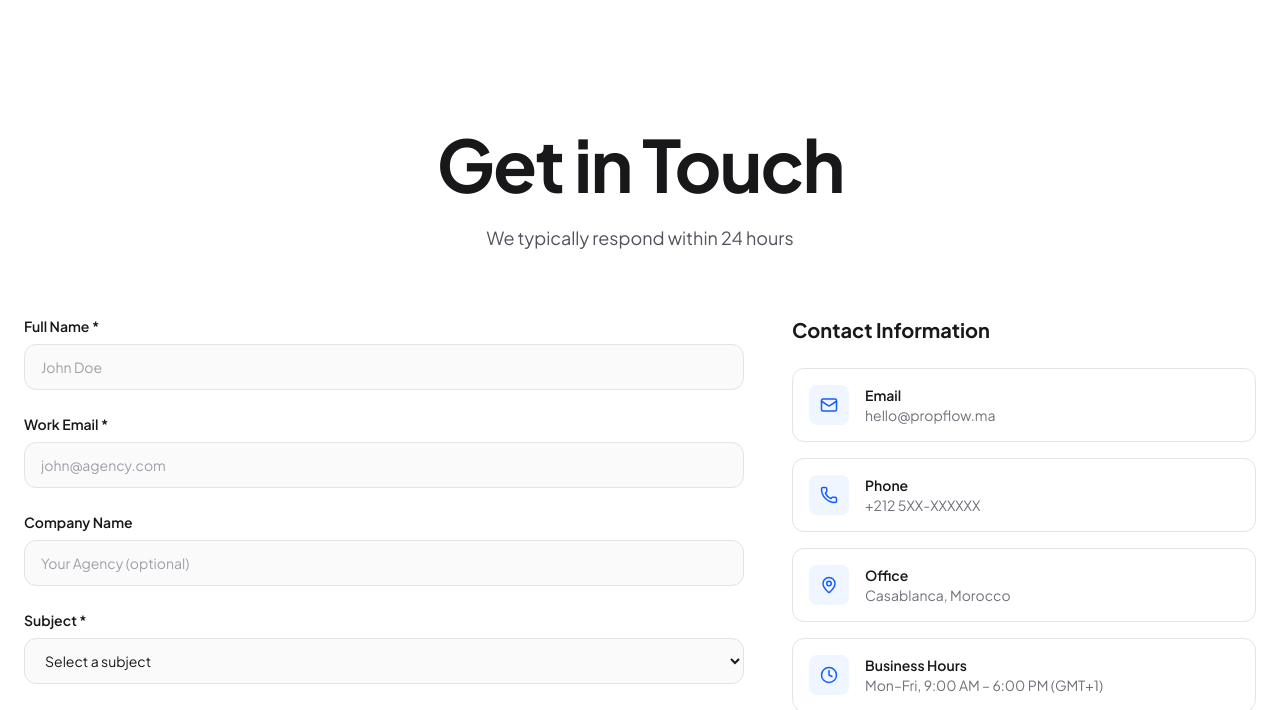
Test: ContactPage › shows success state after valid submission
Type "Jane Doe" into the field labelled "Full Name *" at [384, 367], box left=24, top=344, right=744, bottom=390
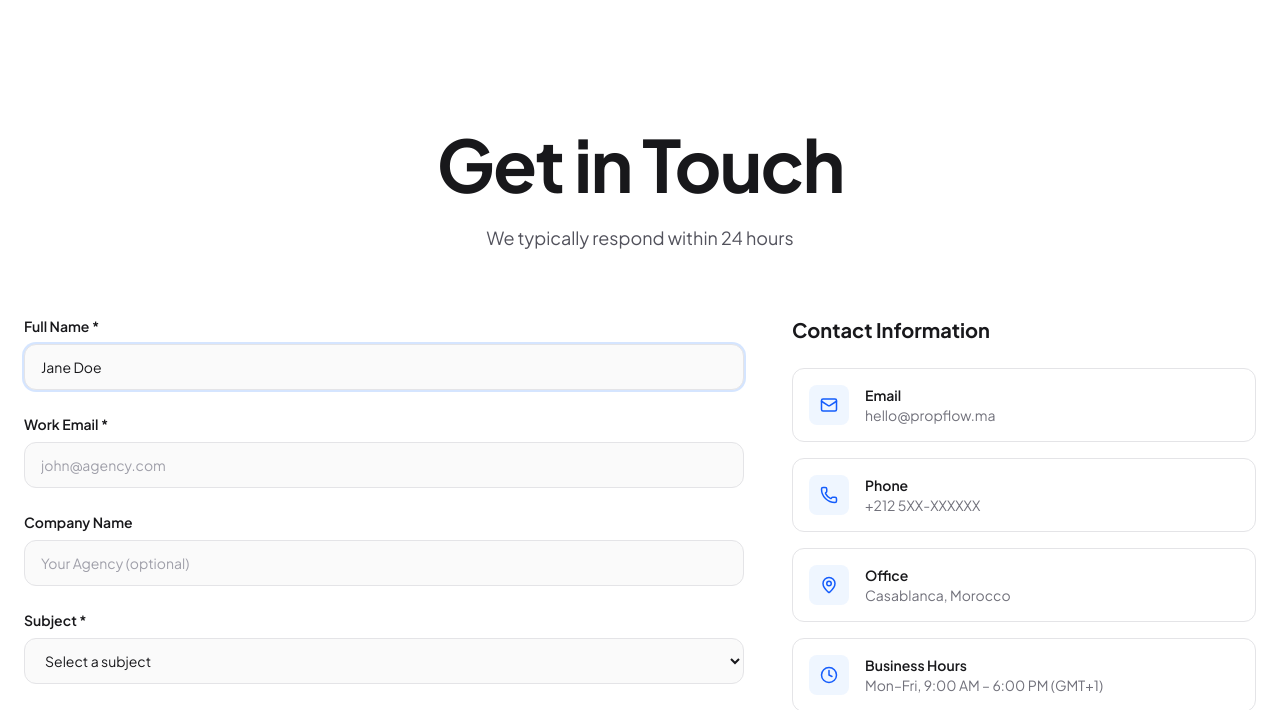
Type "jane@test.com" into the field labelled "Work Email *" at [384, 465], box left=24, top=442, right=744, bottom=488
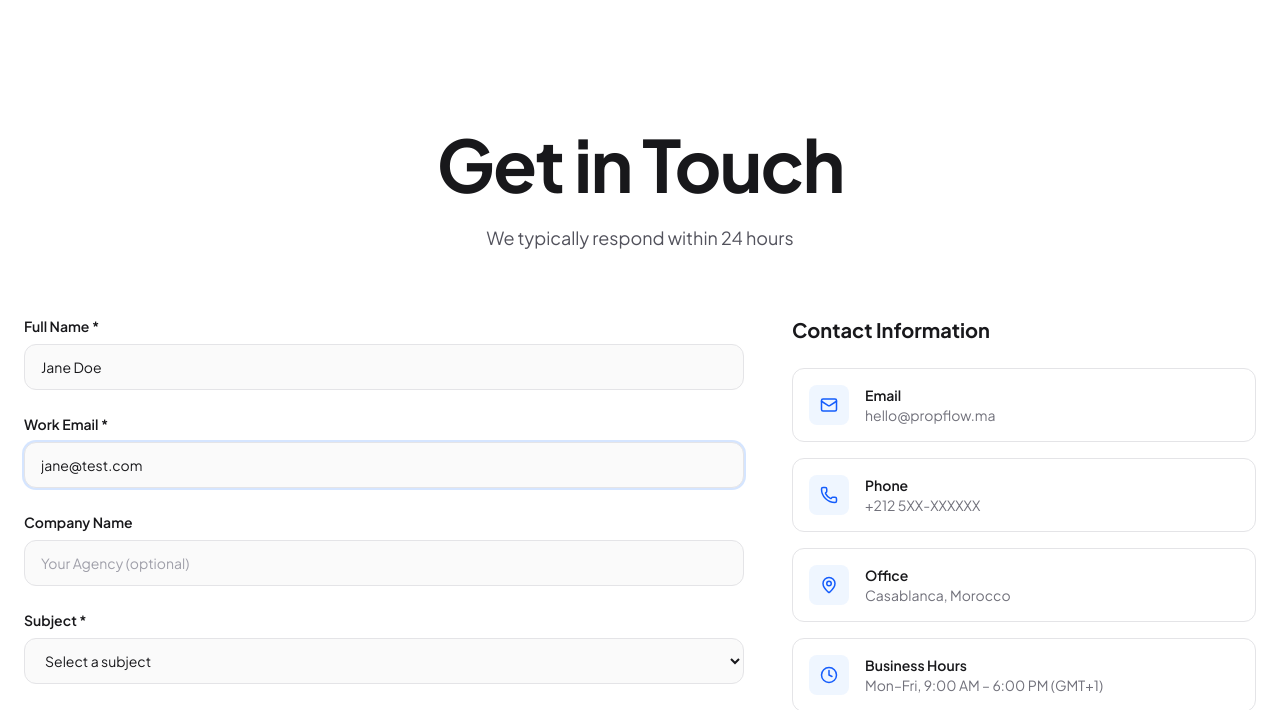
Select "General Inquiry" in the dropdown labelled "Subject *" at [384, 661], box left=24, top=638, right=744, bottom=684
(page scrolled)
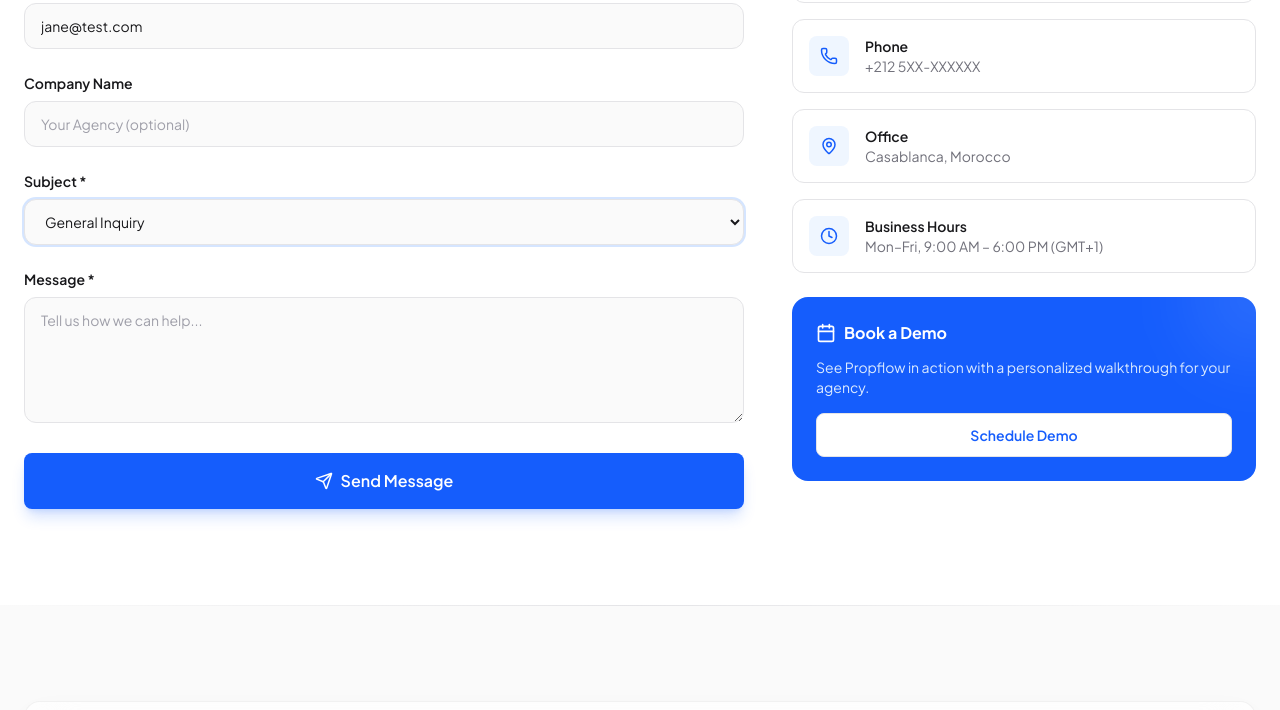
Type "This is a test message for contact form." into the text box labelled "Message *" at [384, 360], box left=24, top=297, right=744, bottom=423
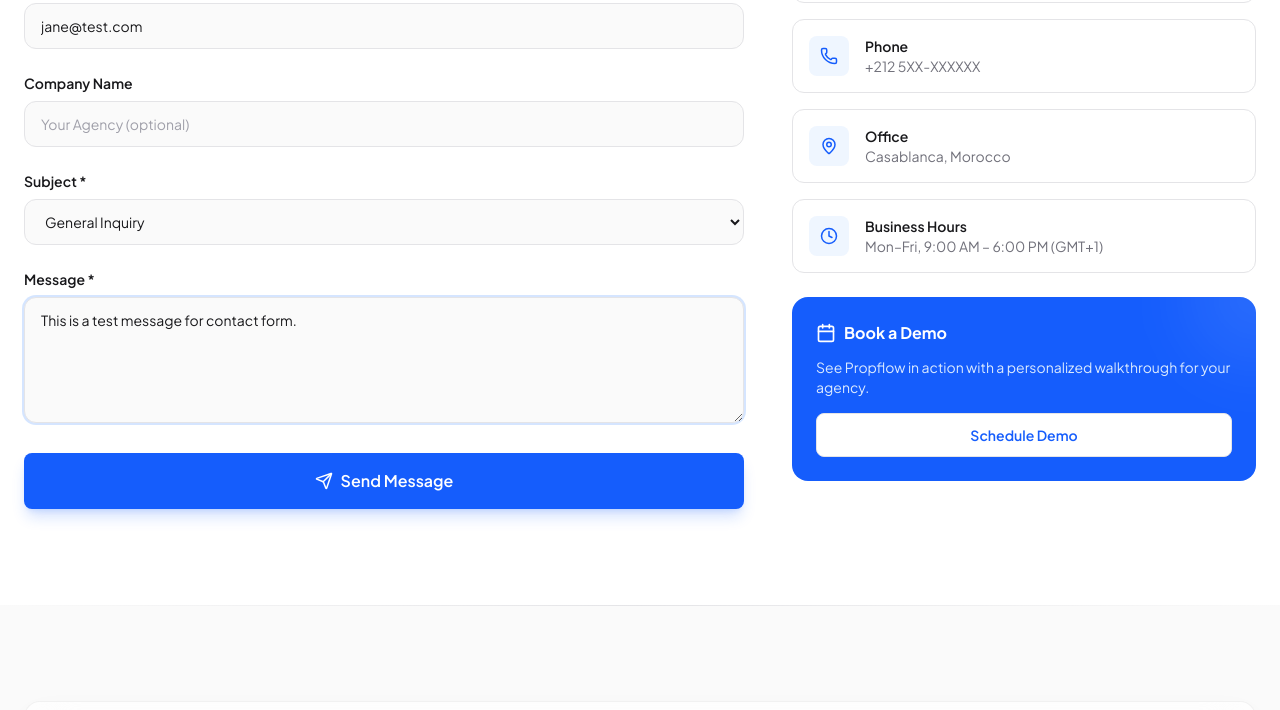
Click the button "Send Message" at [384, 481], box left=24, top=453, right=744, bottom=509
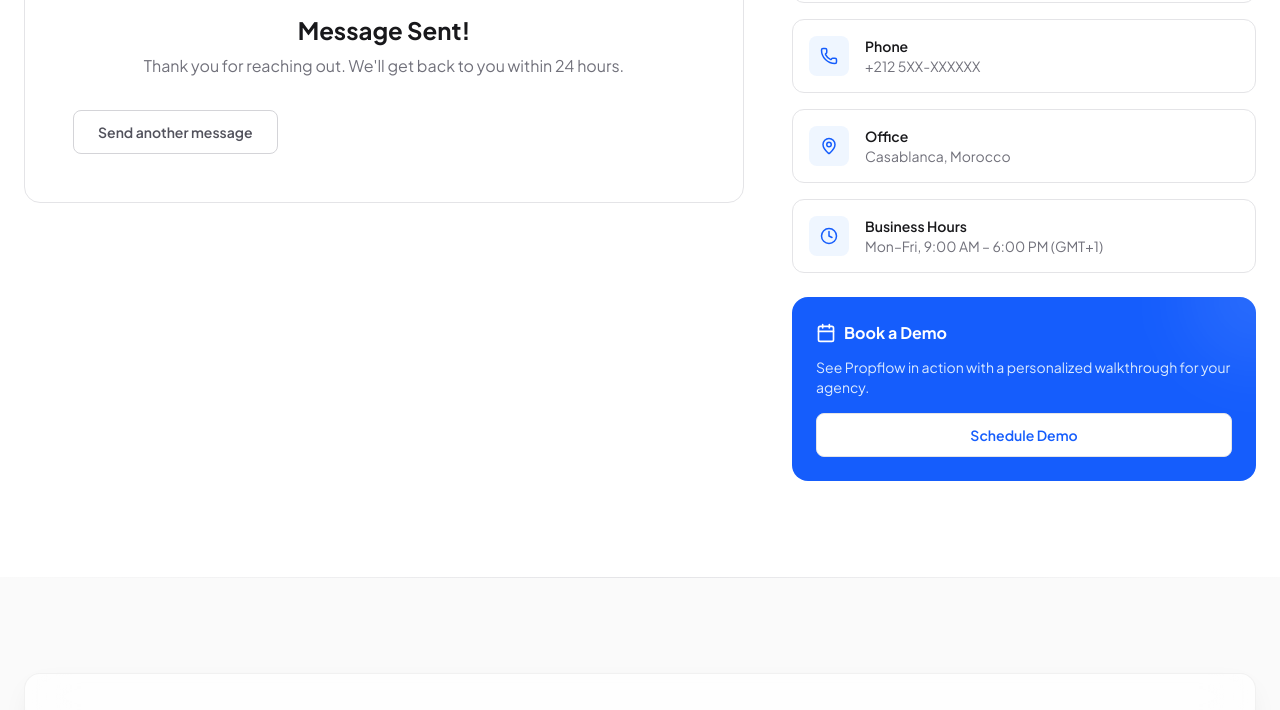
Expected: the heading "Message Sent!" is shown, left=298, top=15, right=470, bottom=45
